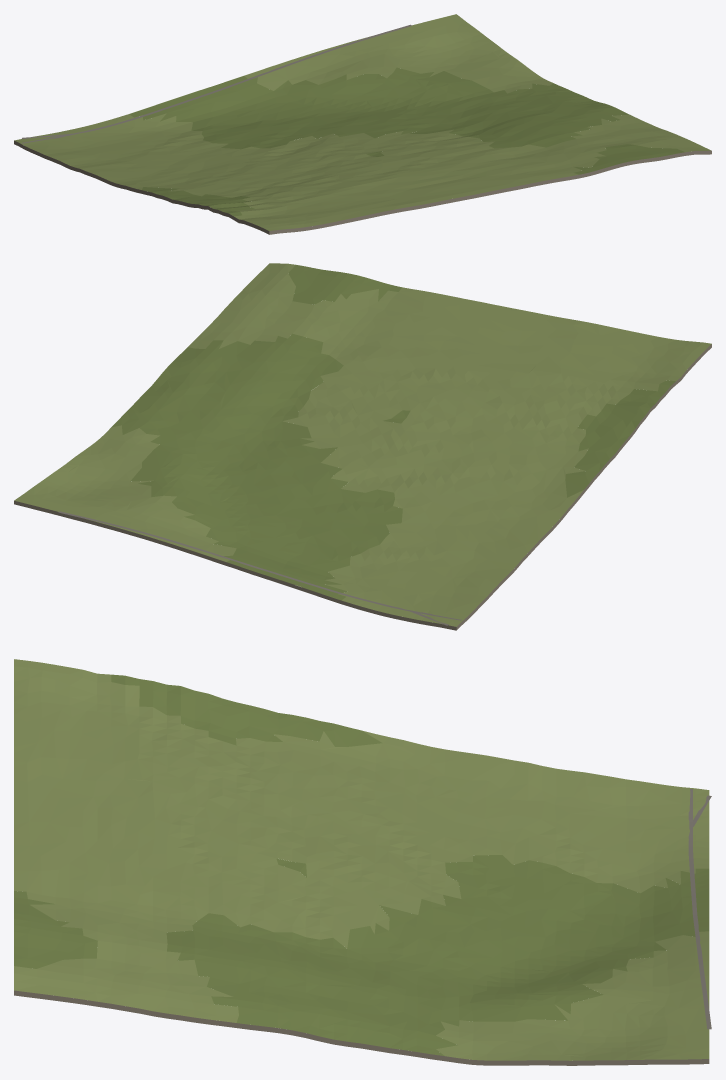
File: parca_+8_-3-uzak.glb
3 renders of one model, top to bottom at view 1: azimuth 30°, elevation 25°; view 2: azimuth 150°, elevation 25°; view 3: azimuth 270°, elevation 25°, orthographic. The views are drawn at different scales.
Visible parts, largest first — view 1: parca_+8_-3_arazi_uzak, parca_+8_-3_yollar_uzak; view 2: parca_+8_-3_arazi_uzak, parca_+8_-3_yollar_uzak; view 3: parca_+8_-3_arazi_uzak, parca_+8_-3_yollar_uzak.
Boxes of the visible parts, x1,y1,x2,y2 form: parca_+8_-3_arazi_uzak: (14,14,711,234); parca_+8_-3_yollar_uzak: (22,24,411,143); parca_+8_-3_arazi_uzak: (14,263,711,630); parca_+8_-3_yollar_uzak: (58,511,461,625); parca_+8_-3_arazi_uzak: (14,659,709,1065); parca_+8_-3_yollar_uzak: (688,789,711,1029).
Size of the model in its own units: 1000 by 223 by 1004.
